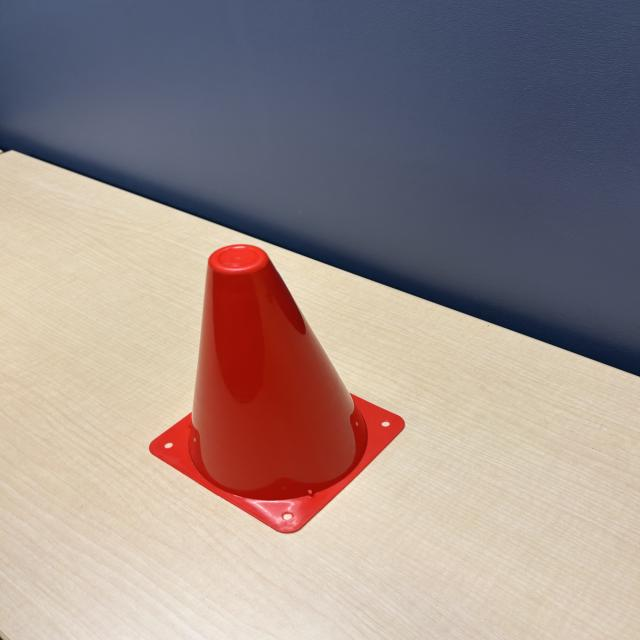orange cone: (141, 236, 416, 542)
